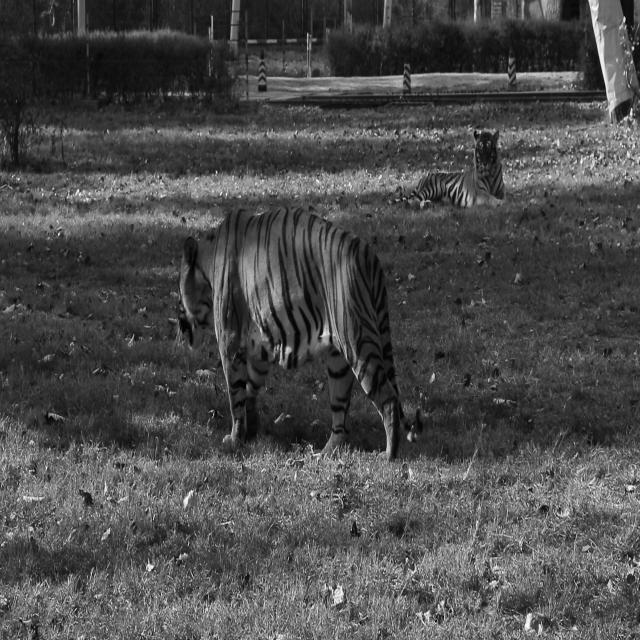Tiger: (177, 203, 423, 462), (393, 127, 507, 209)
